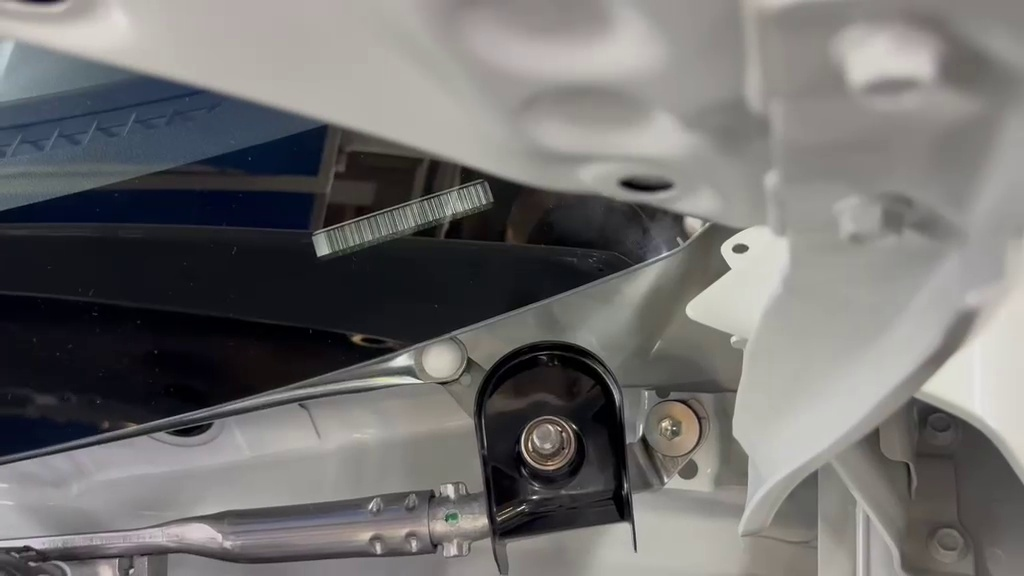barcode: (439, 339, 675, 576)
hinge: (303, 170, 501, 273)
